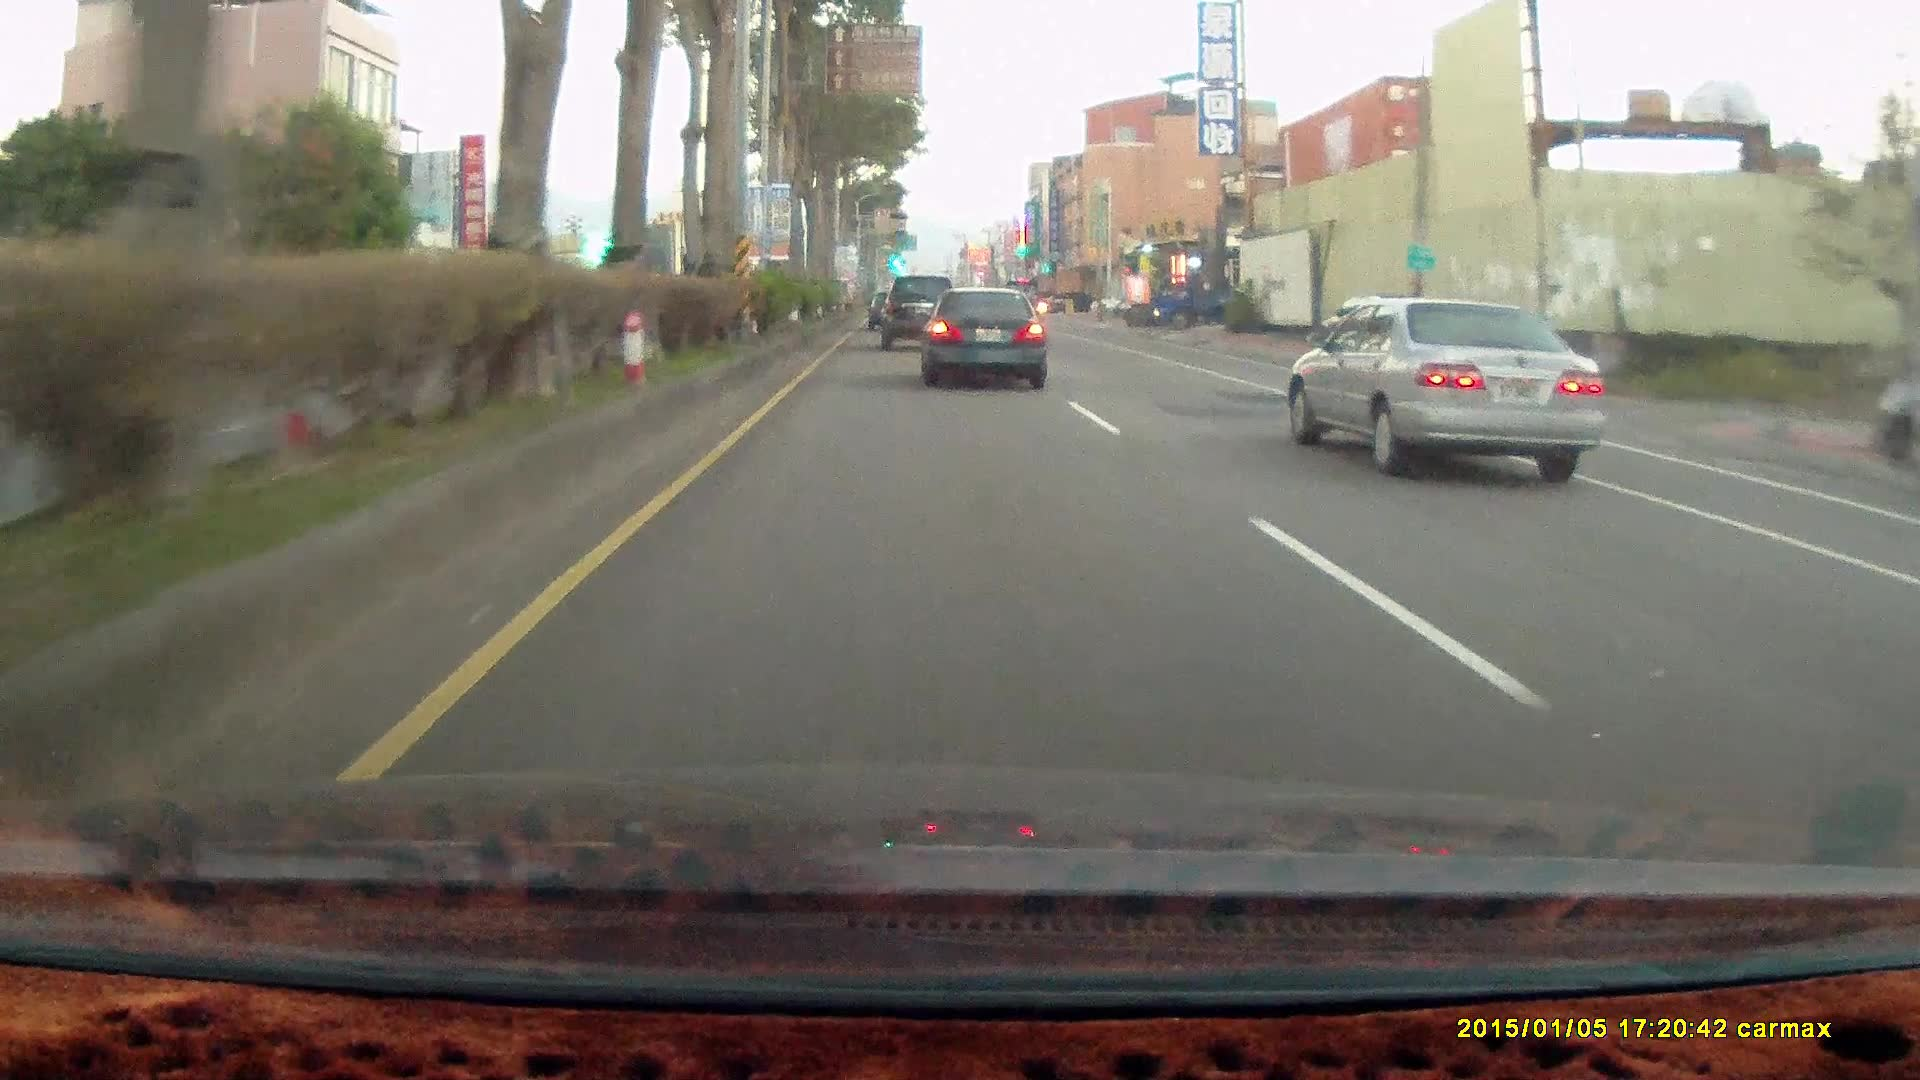vehicle: (1284, 294, 1615, 476), (1287, 294, 1607, 480), (915, 285, 1046, 389), (924, 287, 1054, 389), (1147, 269, 1240, 334), (880, 273, 960, 347), (880, 274, 960, 348), (1147, 269, 1240, 330), (1051, 290, 1093, 311)
